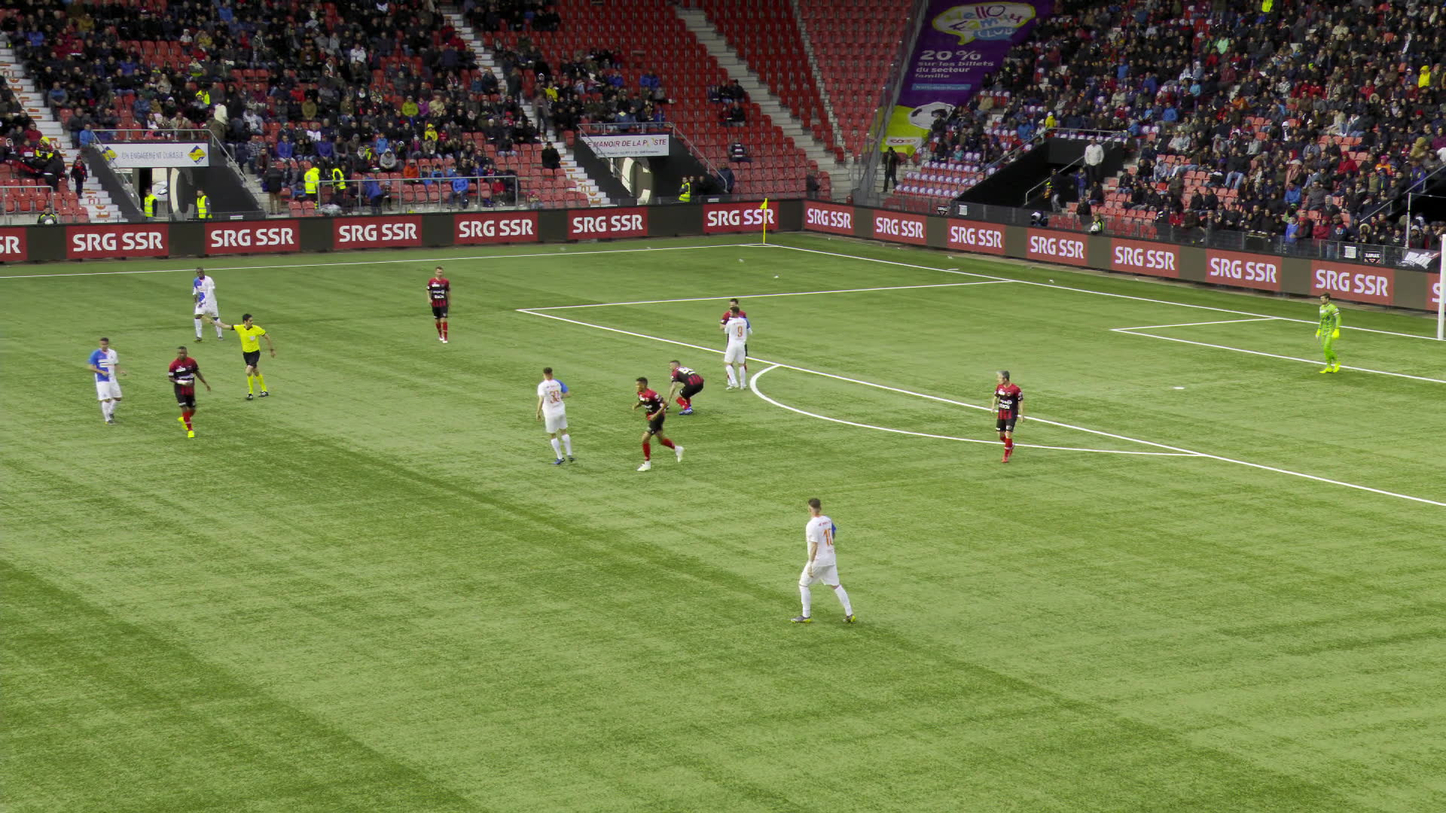player: (789, 497, 854, 623), (633, 376, 685, 470), (535, 368, 579, 464), (166, 346, 211, 437), (84, 336, 120, 424), (991, 370, 1025, 461), (718, 298, 747, 388), (723, 306, 752, 389), (192, 266, 222, 342), (1316, 292, 1344, 373), (667, 359, 703, 415), (425, 265, 450, 343)
referee: (201, 312, 274, 400)
